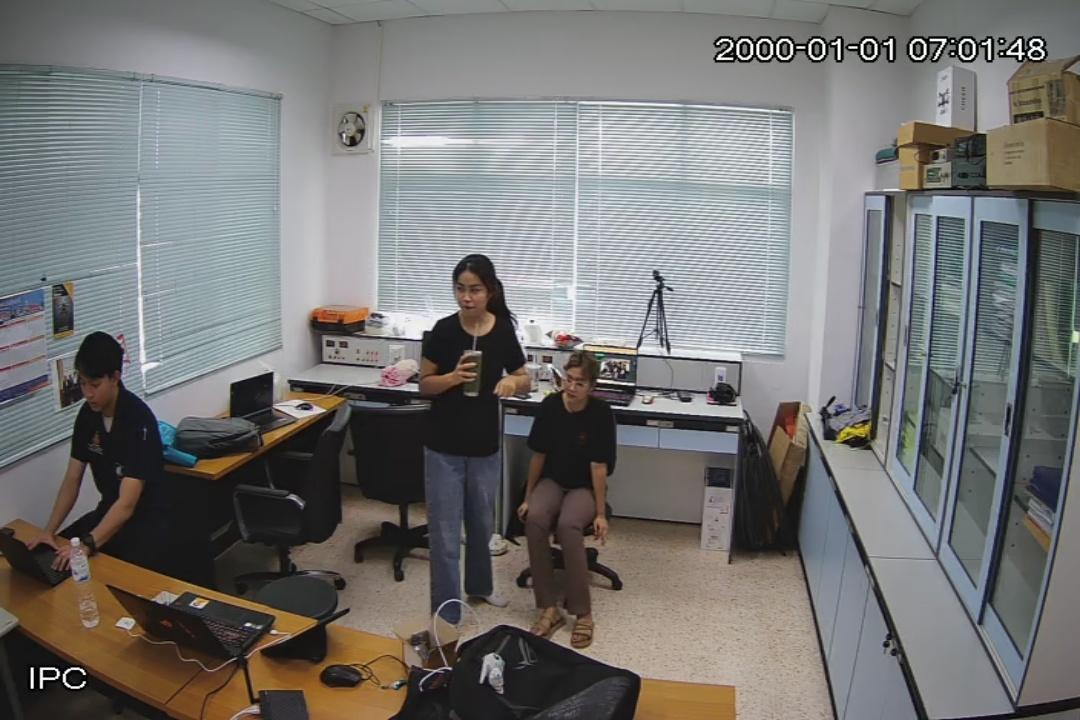normal: (25, 334, 187, 574), (423, 256, 525, 616), (531, 356, 619, 647)
